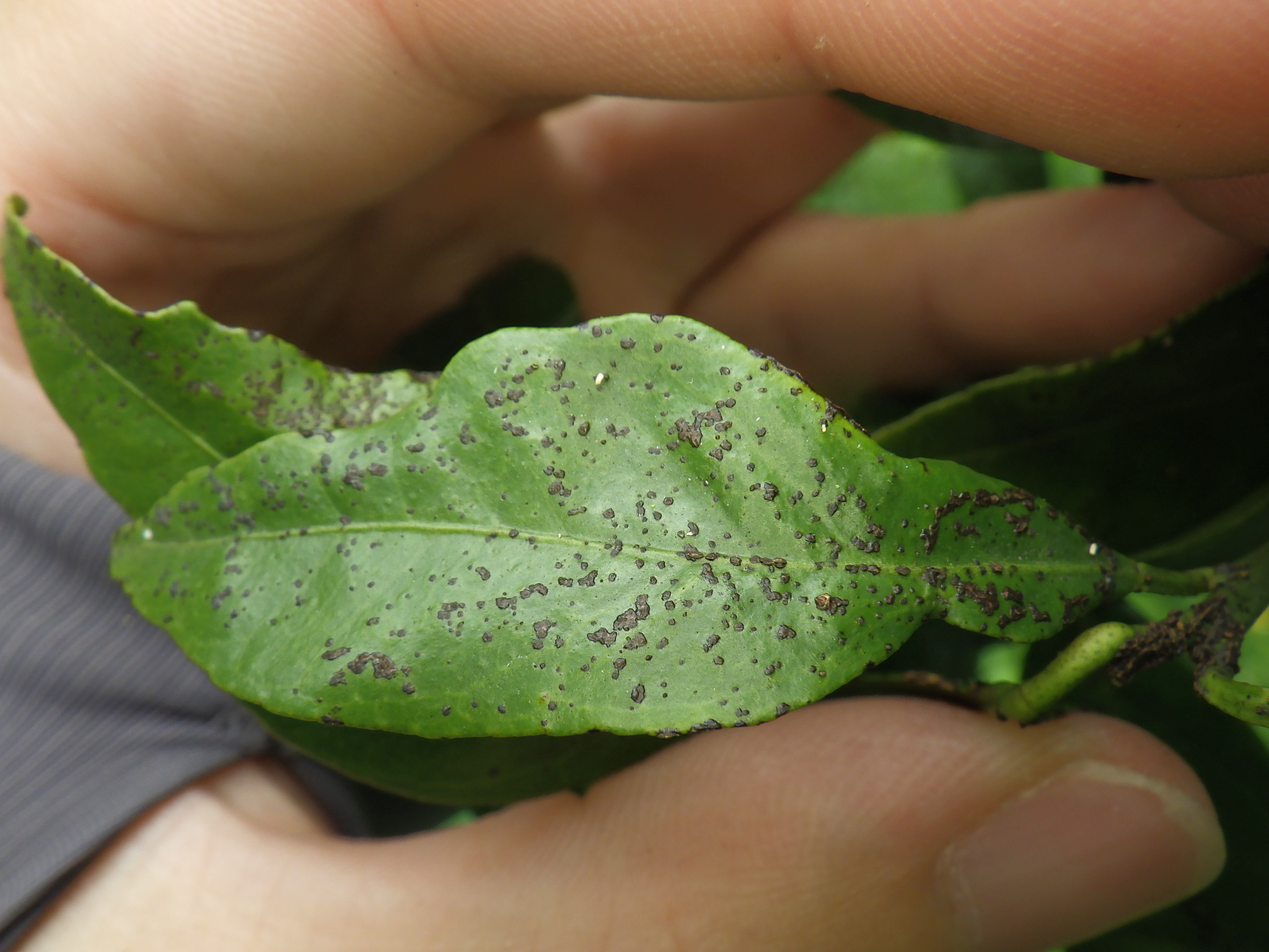Black_Spot: (115, 314, 1149, 737)
